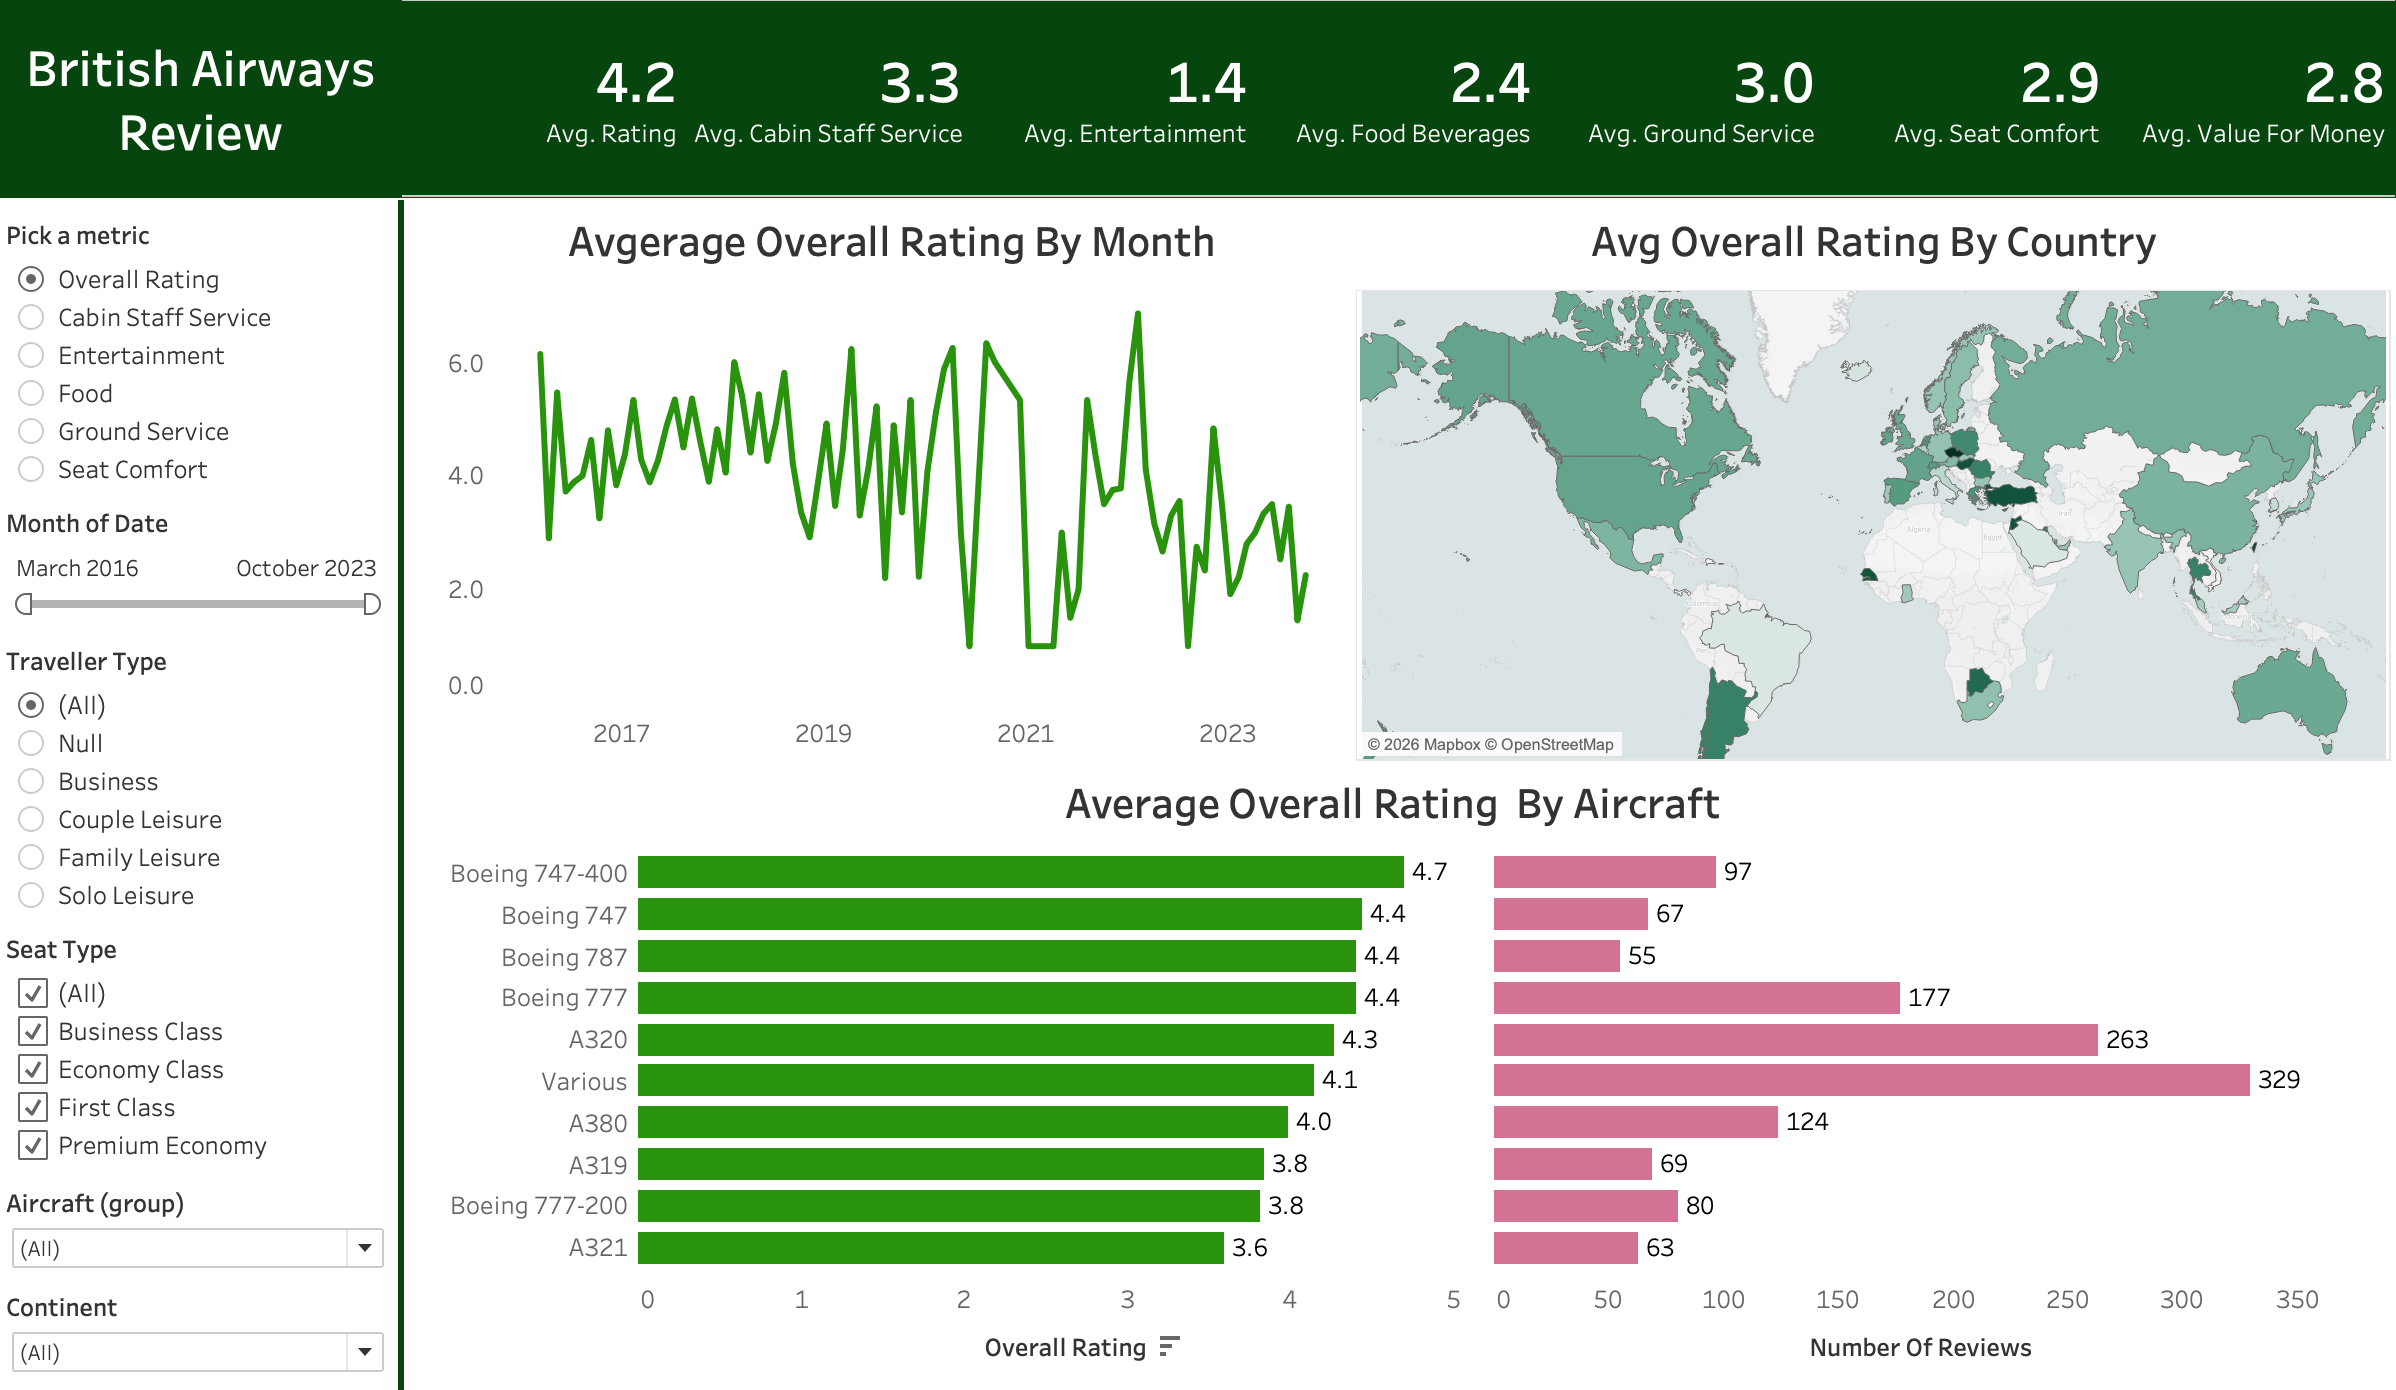

Layout of this report page (visuals, bound fields, positions):
{"tool":"tableau","page":{"name":"Dashboard 1","canvas":[1200,700],"ordinal":0},"visuals":[{"type":"text","box":[0,0,203,99]},{"type":"worksheet","title":"Avg Sum","mark":"Automatic","box":[202,0,997,99]},{"type":"blank","box":[200,100,3,600]},{"type":"worksheet","title":"Month","mark":"Automatic","rows":["Calculation_2472202088529920"],"cols":["date"],"box":[220,102,454,279]},{"type":"worksheet","title":"Map","mark":"Automatic","box":[679,102,518,279]},{"type":"parameter","param":"[Parameters].[Parameter 1]","box":[0,105,200,144]},{"type":"filter","title":"Map","param":"[federated.1t2g39j1w9wd5d12naw5v0onfrf5].[tmn:date:qk]","box":[0,249,200,69]},{"type":"filter","title":"Map","param":"[federated.1t2g39j1w9wd5d12naw5v0onfrf5].[none:traveller_type:nk]","box":[0,318,200,144]},{"type":"worksheet","title":"Aircraft","mark":"Automatic","cols":["Calculation_2472202088529920","ba_reviews.csv_CCB47610E3304B49B7F1462721E17136"],"box":[220,383,955,306]},{"type":"filter","title":"Map","param":"[federated.1t2g39j1w9wd5d12naw5v0onfrf5].[none:seat_type:nk]","box":[0,462,200,127]},{"type":"filter","title":"Map","param":"[federated.1t2g39j1w9wd5d12naw5v0onfrf5].[Aircraft (group)]","box":[0,589,200,52]},{"type":"filter","title":"Map","param":"[federated.1t2g39j1w9wd5d12naw5v0onfrf5].[none:Continent:nk]","box":[0,641,200,52]}]}

Visuals, with their boxes in screenshot pixels (x1, y1, x2, y2), scaled from the page's 1200x700 canvas onto the 2396x1390 screenshot:
text: Rect(0, 0, 405, 197)
"Avg Sum" worksheet: Rect(403, 0, 2394, 197)
blank: Rect(399, 199, 405, 1389)
"Month" worksheet: Rect(439, 203, 1346, 757)
"Map" worksheet: Rect(1356, 203, 2390, 757)
parameter: Rect(0, 208, 399, 494)
"Map" filter: Rect(0, 494, 399, 631)
"Map" filter: Rect(0, 631, 399, 917)
"Aircraft" worksheet: Rect(439, 761, 2346, 1368)
"Map" filter: Rect(0, 917, 399, 1170)
"Map" filter: Rect(0, 1170, 399, 1273)
"Map" filter: Rect(0, 1273, 399, 1376)
